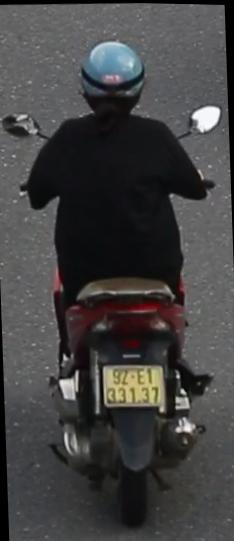LP: (98, 356, 172, 419)
helmet: (75, 34, 149, 115)
